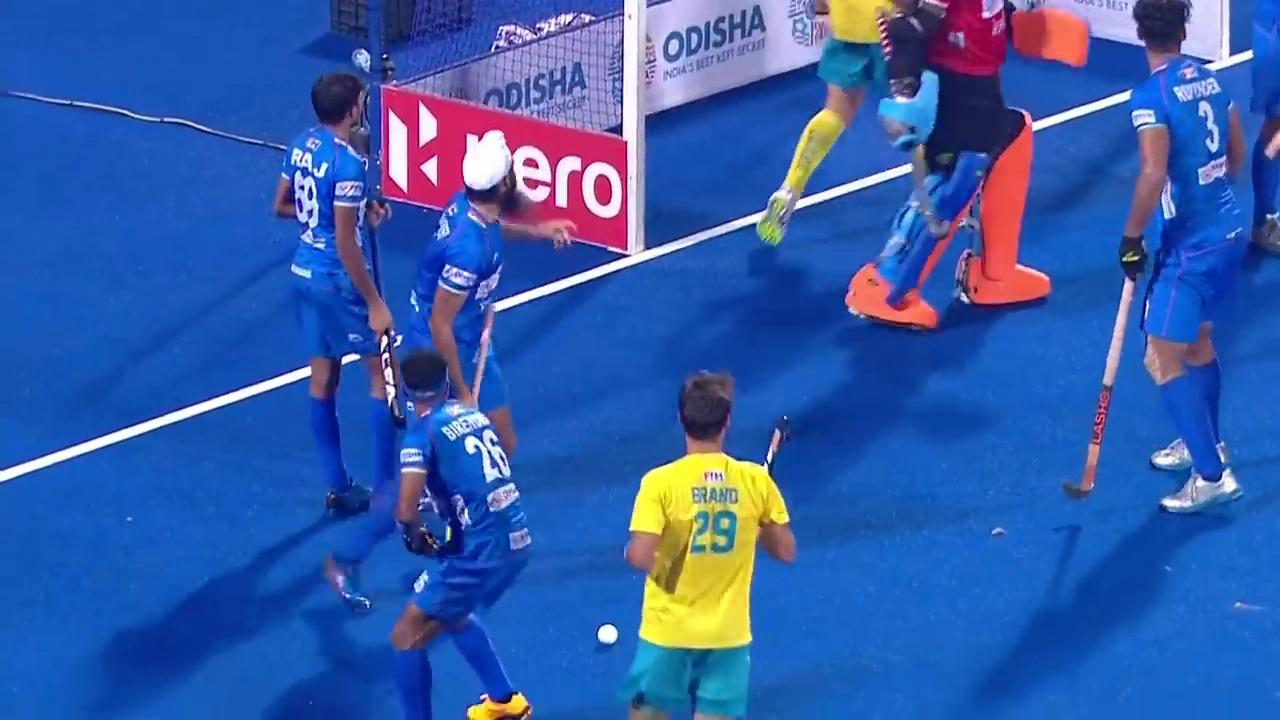ball: (580, 612, 634, 658)
